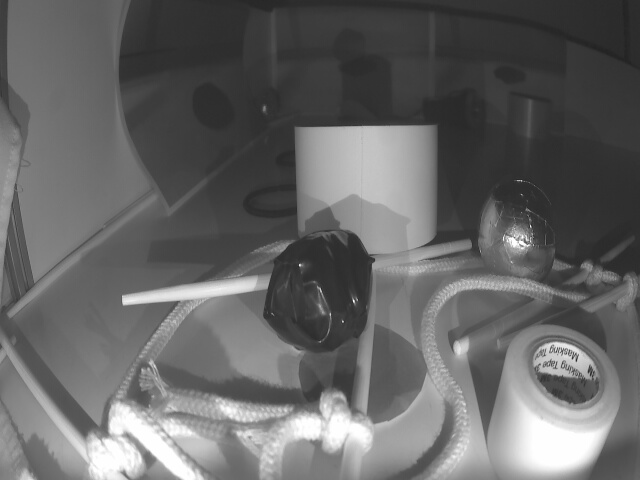Dead: (264, 227, 375, 344)
Live: (478, 179, 556, 280)
